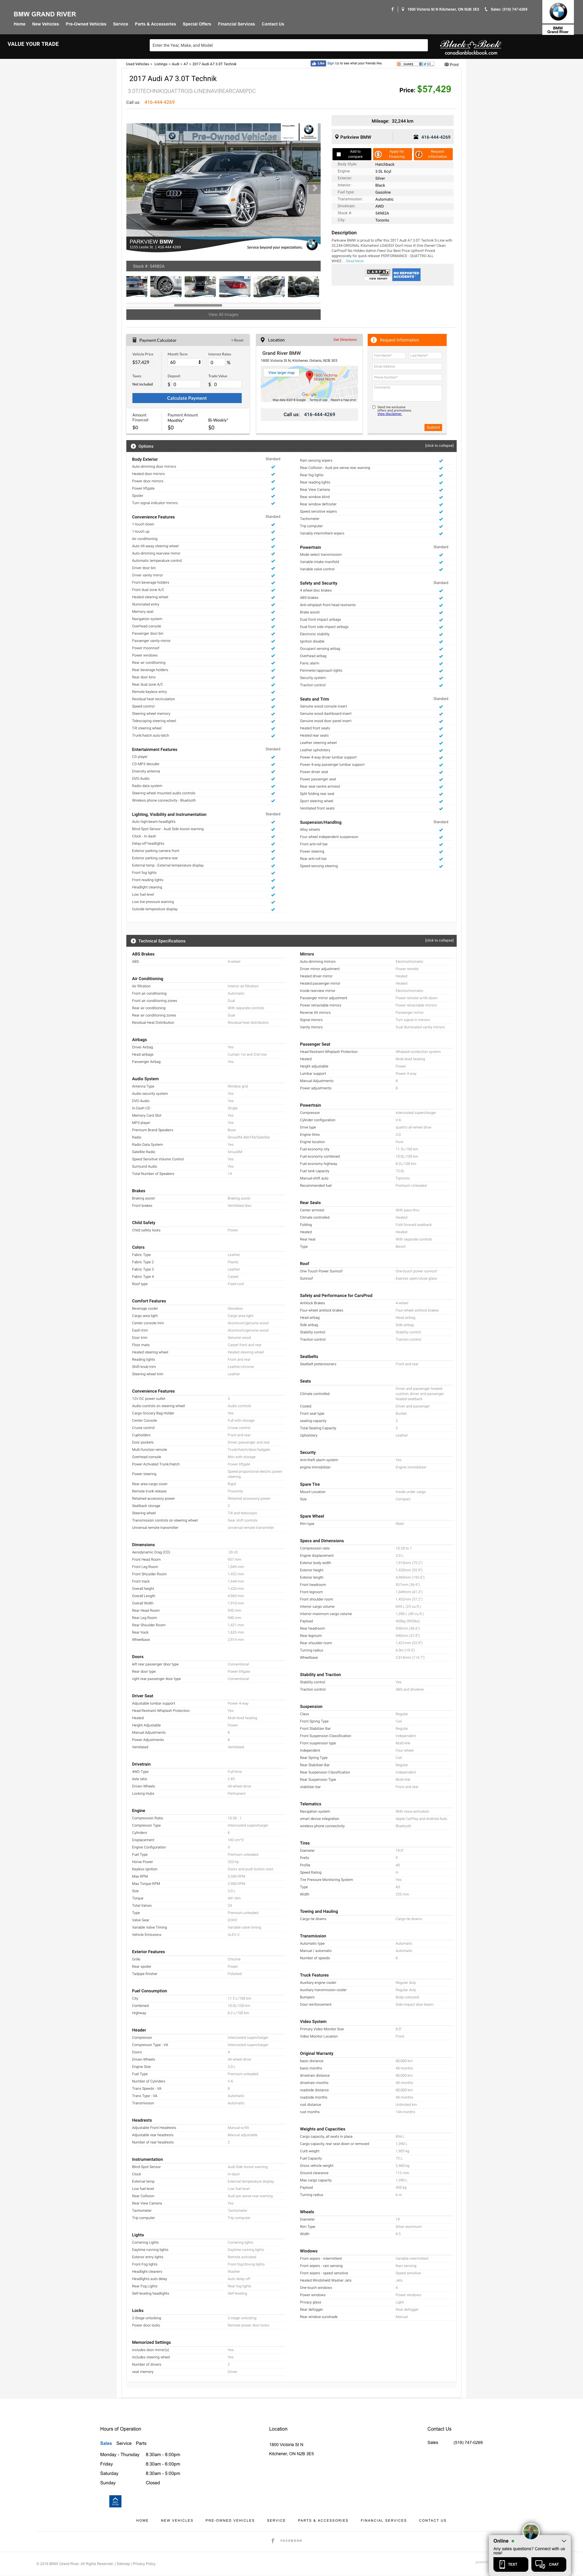car: (309, 181, 322, 194)
